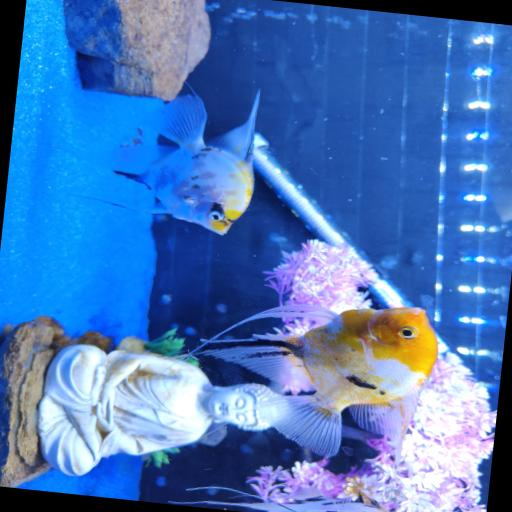Fish: (199, 305, 436, 464), (104, 91, 258, 234), (169, 487, 388, 511)
